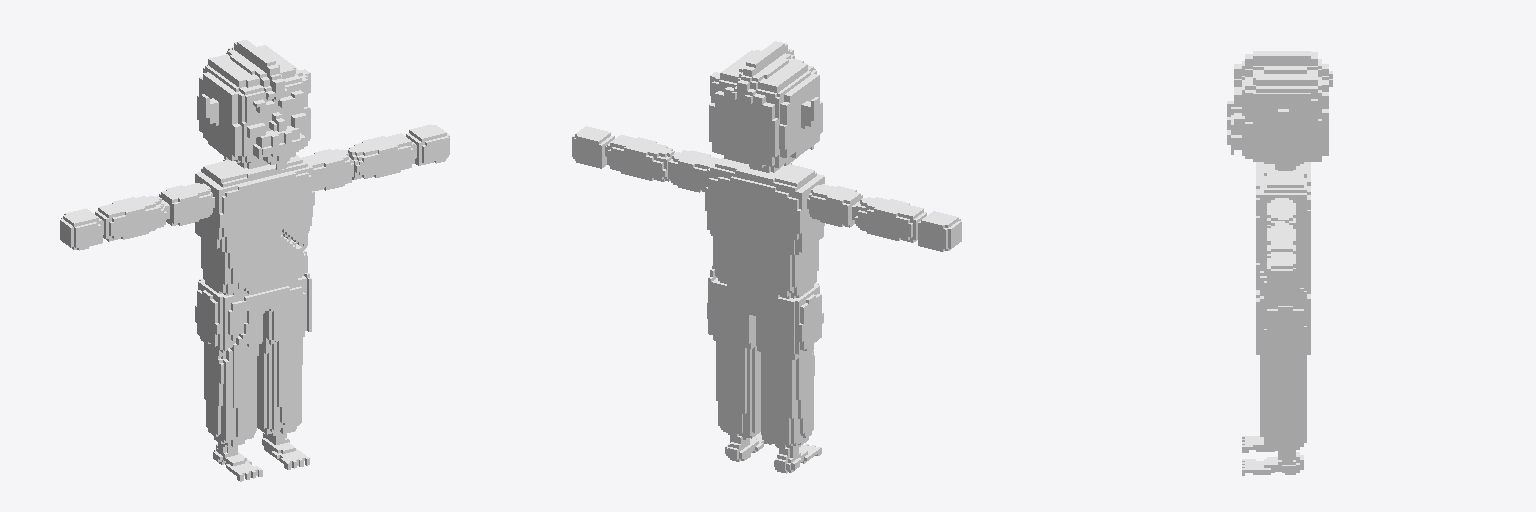
3 views of the same model, side by side, from view 1: azimuth 30°, elevation 25°; view 2: azimuth 150°, elevation 25°; view 3: azimuth 270°, elevation 25° (orthographic).
Visible parts, largest first — view 1: TankOgre; view 2: TankOgre; view 3: TankOgre.
Boxes of the visible parts, x1=… form: TankOgre: x1=60, y1=40, x2=449, y2=481; TankOgre: x1=572, y1=41, x2=961, y2=473; TankOgre: x1=1227, y1=51, x2=1332, y2=475.
Size of the model in its own units: 12 by 12.3 by 2.9.